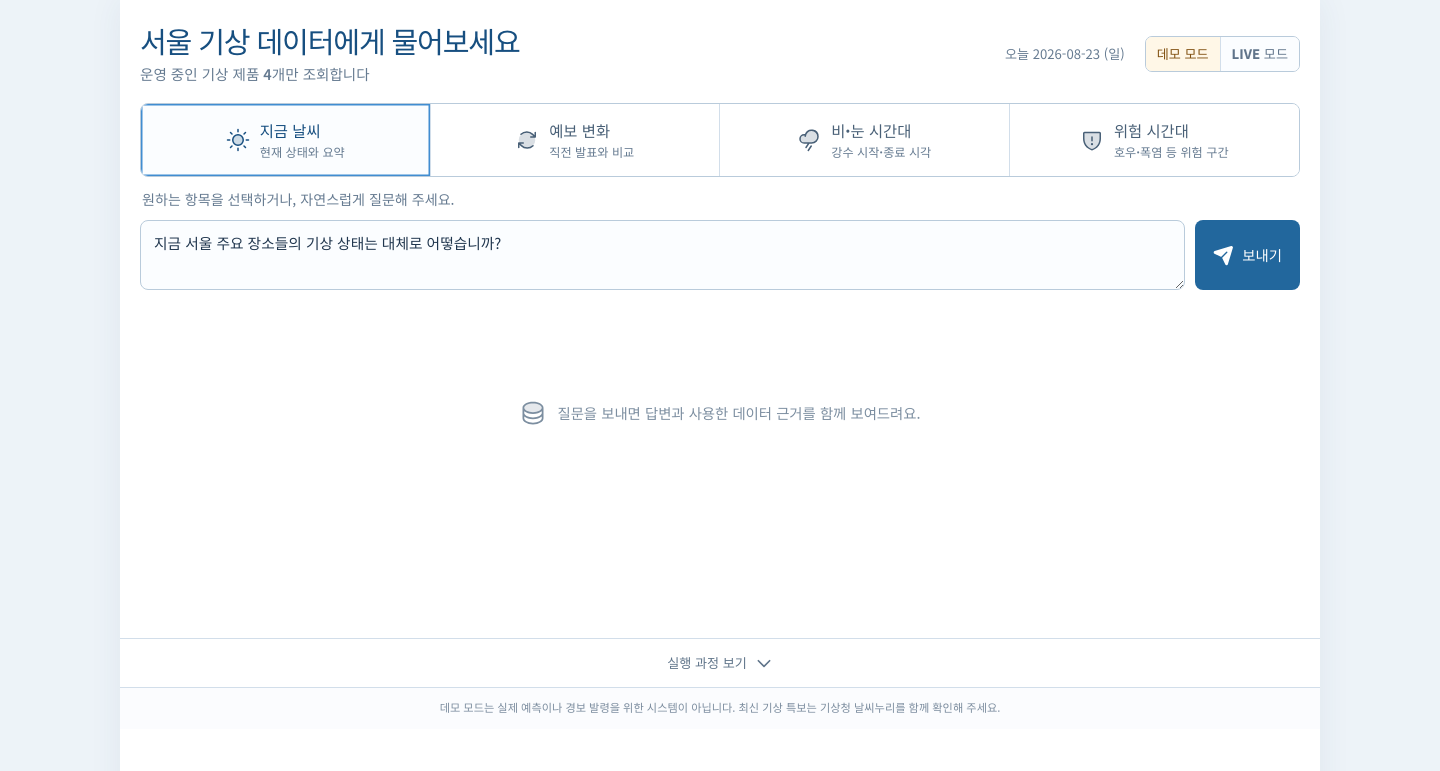
Scenario: ASK Seoul 기상 에이전트 UI › 장소별 강수 예상 시간대 근거를 원본 JSON 대신 한국어 표로 먼저 보여준다
Expected: the navigation bar named "기상 질문 유형" is shown, [140, 103, 1300, 177]
What coordinates should you click on to do the following:
click the tab "비·눈 시간대 강수 시작·종료 시각"
I would click on:
 (865, 140)
Its box is [720, 104, 1010, 176].
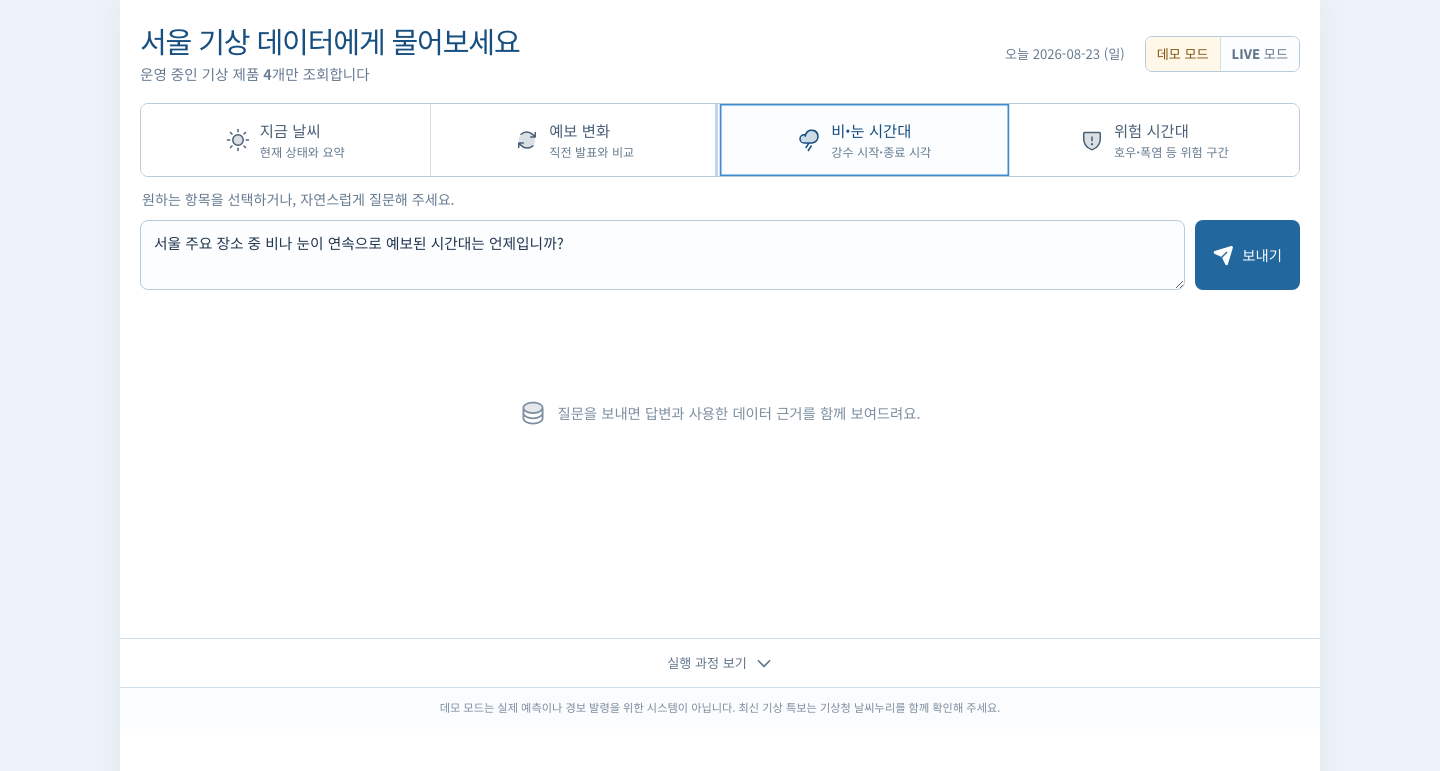
What coordinates should you click on to do the following:
click the button with aria-label "질문 보내기"
I would click on:
 (1248, 255)
Its box is [1195, 220, 1300, 290].
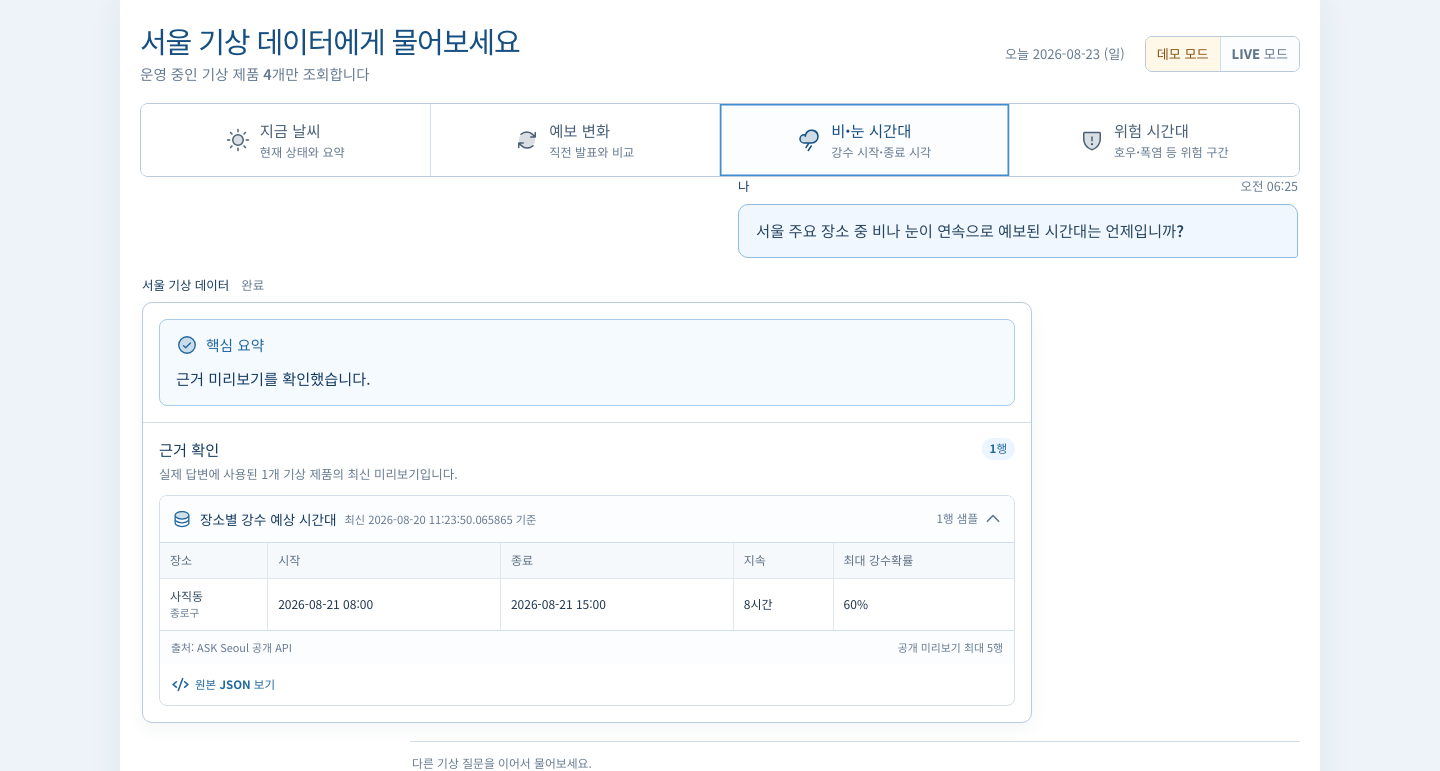
Expected: the element named "서울 기상 데이터 답변" is shown, [142, 276, 1032, 724]
Expected: the text "장소별 강수 예상 시간대" is shown, [200, 509, 336, 530]
Expected: the text "사직동" is shown, [170, 587, 203, 604]
What coordinates should you click on to do the following:
click the button "원본 JSON 보기"
I would click on:
 (224, 684)
Its box is [170, 672, 277, 697].
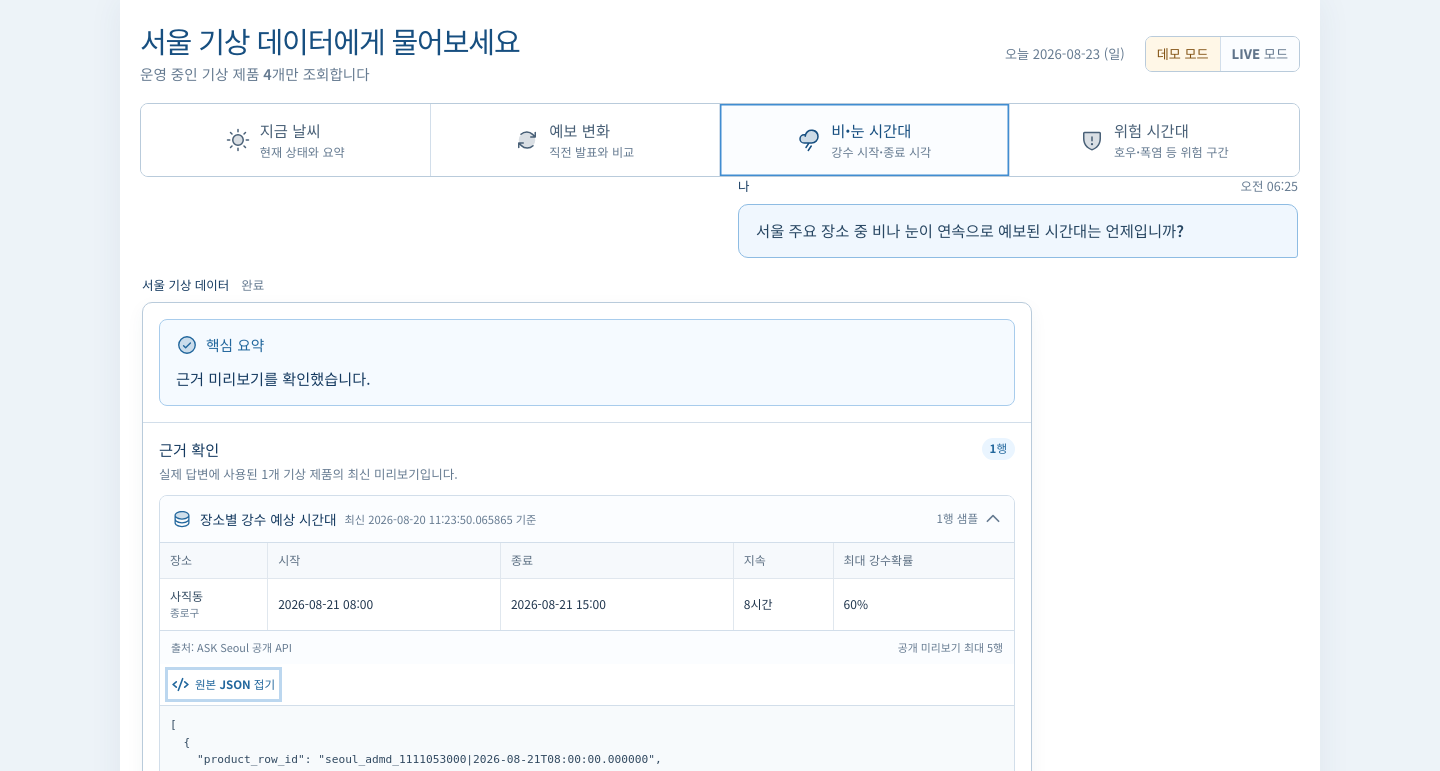
Expected: the button "원본 JSON 접기" is shown, [170, 672, 277, 697]
